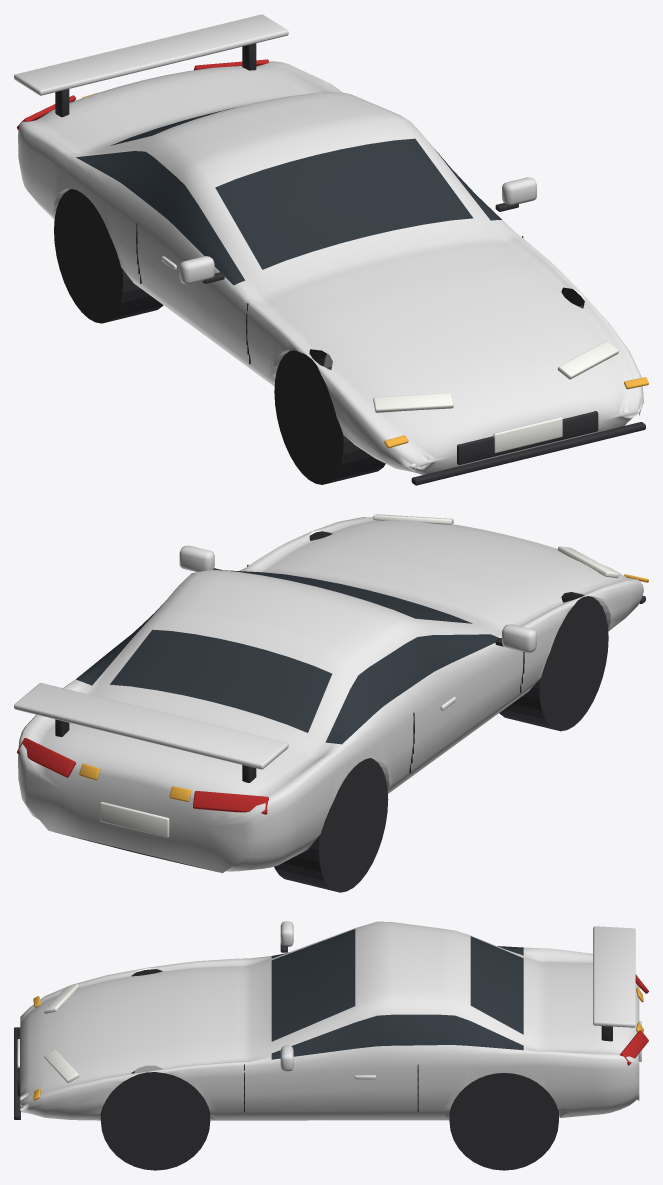
Rendered from coupe.glb.
3 renders of one model, top to bottom at view 1: azimuth 30°, elevation 25°; view 2: azimuth 150°, elevation 25°; view 3: azimuth 270°, elevation 25°, orthographic. The views are drawn at different scales.
Visible parts, largest first — view 1: coupe, coupe_well, coupe_well.002, wing, splitter, grille, plate_f, headlight, headlight.001, mirror, mirror.001; view 2: coupe, wing, coupe_well.002, coupe_well, plate_r, taillight, taillight.001, mirror, mirror.001, headlight; view 3: coupe, coupe_well.001, coupe_well.003, wing, headlight.001, taillight.001, splitter, headlight.
Boxes of the visible parts, box(x1,y1,x2,y2) form: coupe: box(18, 61, 643, 474); coupe_well: box(274, 349, 385, 484); coupe_well.002: box(54, 189, 163, 323); wing: box(14, 14, 288, 95); splitter: box(411, 422, 645, 485); grille: box(457, 411, 598, 464); plate_f: box(493, 417, 562, 453); headlight: box(373, 393, 453, 412); headlight.001: box(557, 340, 618, 379); mirror: box(179, 256, 214, 284); mirror.001: box(502, 177, 536, 204); coupe: box(18, 517, 643, 873); wing: box(14, 683, 288, 769); coupe_well.002: box(274, 758, 388, 892); coupe_well: box(499, 592, 608, 731); plate_r: box(100, 802, 169, 837); taillight: box(193, 791, 268, 814); taillight.001: box(17, 738, 75, 777); mirror: box(502, 624, 536, 652); mirror.001: box(179, 545, 214, 571); headlight: box(557, 546, 619, 578); coupe: box(20, 921, 639, 1120); coupe_well.001: box(100, 1071, 210, 1170); coupe_well.003: box(449, 1073, 558, 1170); wing: box(593, 926, 635, 1027); headlight.001: box(44, 1050, 79, 1082); taillight.001: box(620, 1030, 648, 1065); splitter: box(14, 1027, 20, 1119); headlight: box(44, 984, 79, 1013).
Bounding box in the file's own units: 2.27 × 1.28 × 4.46.
